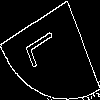L: (25, 25, 65, 70)
